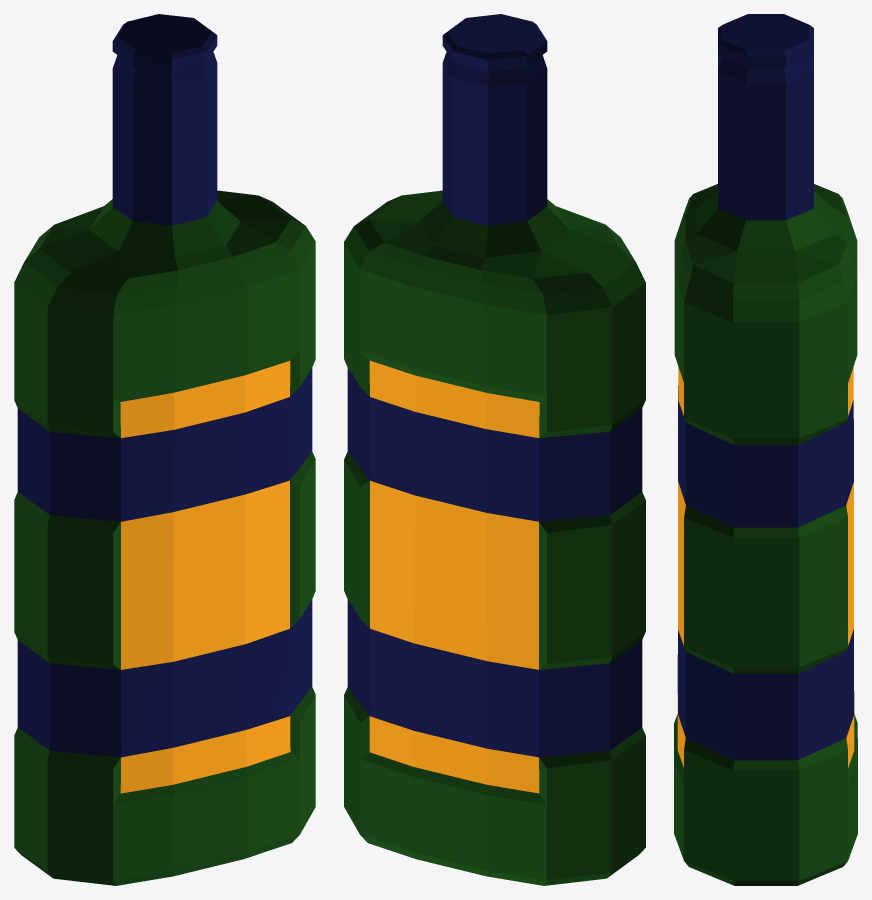
The model's file is Wine 21.fbx.
3 views of the same model, side by side, from view 1: azimuth 30°, elevation 25°; view 2: azimuth 150°, elevation 25°; view 3: azimuth 270°, elevation 25° (orthographic).
Parts seen in each view (by area): view 1: Node 0; view 2: Node 0; view 3: Node 0.
Boxes of the visible parts, box(x1,y1,x2,y2) form: Node 0: box(14, 14, 315, 885); Node 0: box(344, 14, 645, 885); Node 0: box(674, 14, 857, 885).
Bounding box in the file's own units: 0.0508 × 0.2416 × 0.0846.
